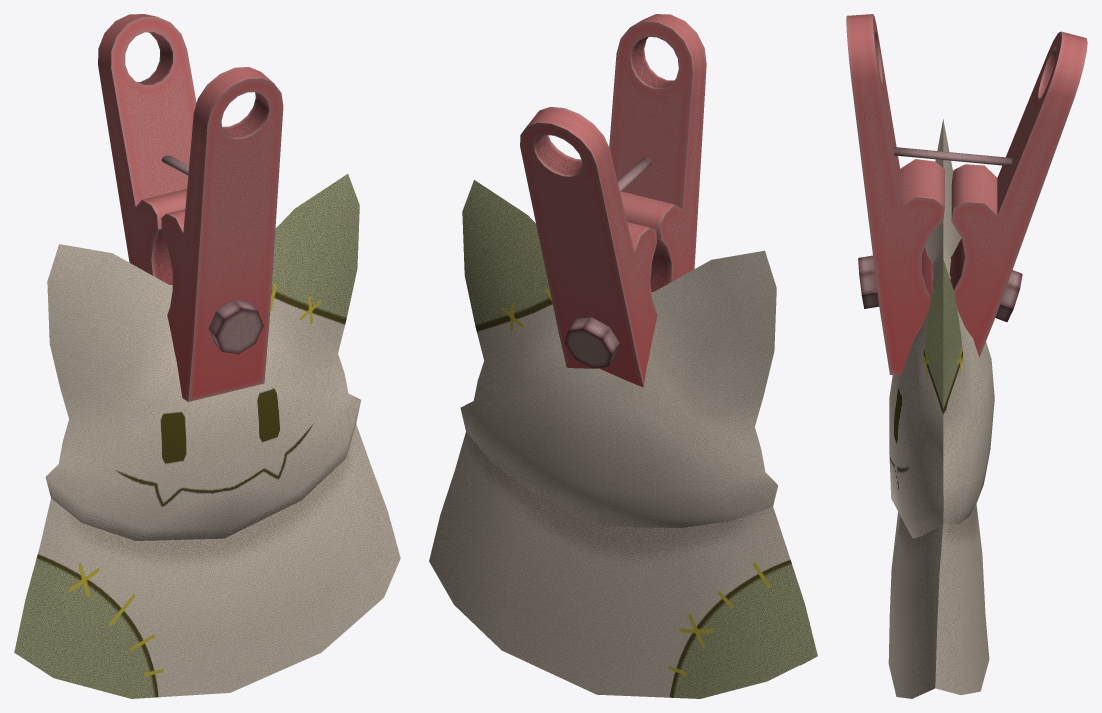
Rendered from 007 small _ .fbx.
3 views of the same model, side by side, from view 1: azimuth 30°, elevation 25°; view 2: azimuth 150°, elevation 25°; view 3: azimuth 270°, elevation 25° (orthographic).
Parts seen in each view (by area): view 1: main, clip; view 2: main, clip; view 3: main, clip.
Part boxes in pixels (box(x1,y1,x2,y2)): main: box(14, 174, 400, 698); clip: box(98, 14, 283, 401); main: box(429, 180, 817, 698); clip: box(520, 14, 706, 387); main: box(888, 119, 994, 698); clip: box(846, 14, 1087, 375).
Size of the model in its own units: 61.4 by 95.91 by 32.57.
